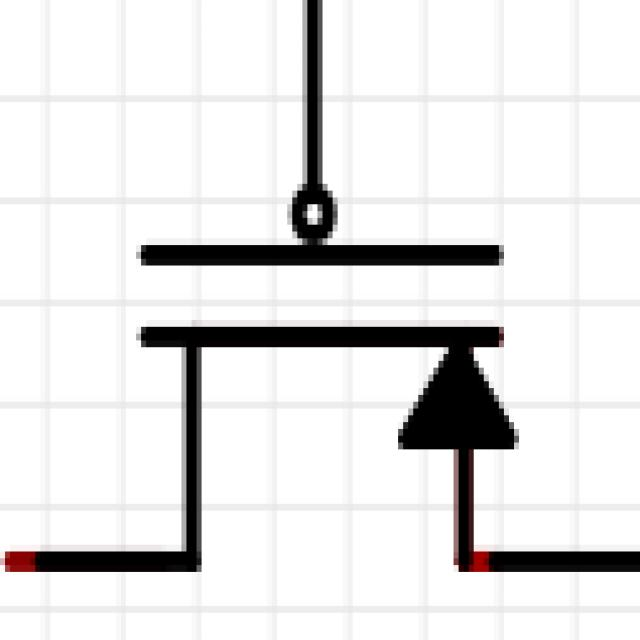pmos: (21, 88, 633, 623)
